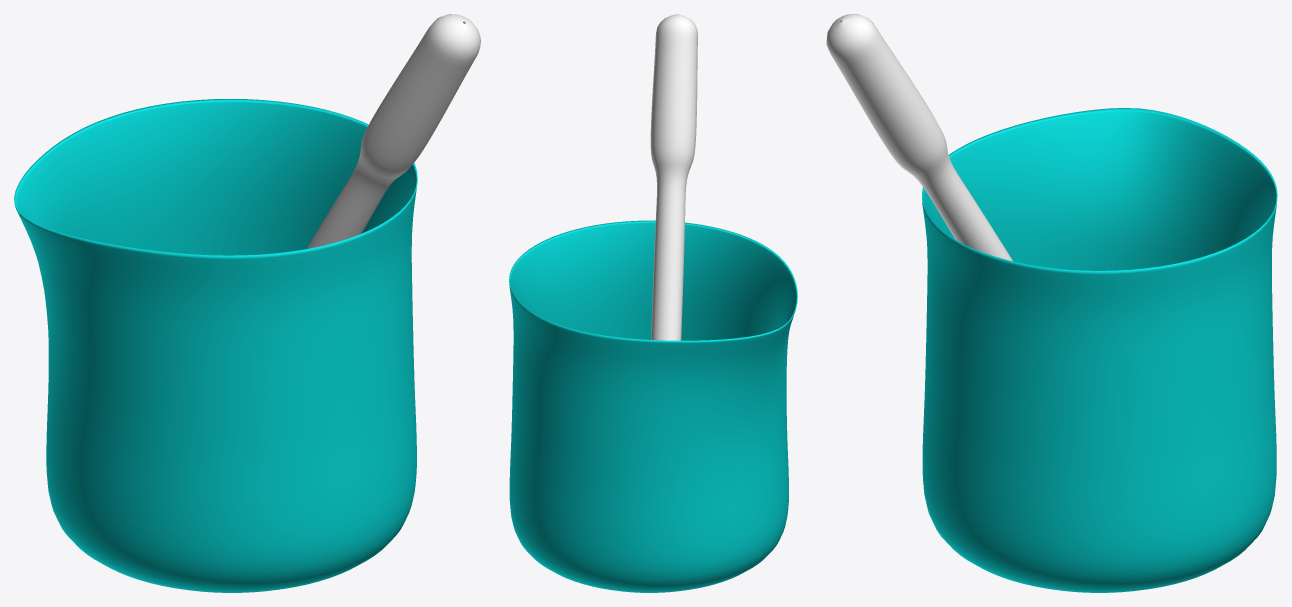
File: Dropper.fbx
3 renders of one model, left to right at view 1: azimuth 30°, elevation 25°; view 2: azimuth 150°, elevation 25°; view 3: azimuth 270°, elevation 25°, orthographic. The views are drawn at different scales.
Parts seen in each view (by area): view 1: Dropper1, Dropper2; view 2: Dropper1, Dropper2; view 3: Dropper1, Dropper2.
Part boxes in pixels (left/top/right/bottom): Dropper1: left=14, top=99, right=417, bottom=592; Dropper2: left=306, top=14, right=480, bottom=248; Dropper1: left=509, top=220, right=797, bottom=592; Dropper2: left=650, top=14, right=697, bottom=340; Dropper1: left=922, top=108, right=1277, bottom=592; Dropper2: left=826, top=14, right=1012, bottom=261.
Size of the model in its own units: 4.32 by 6.94 by 4.97.
